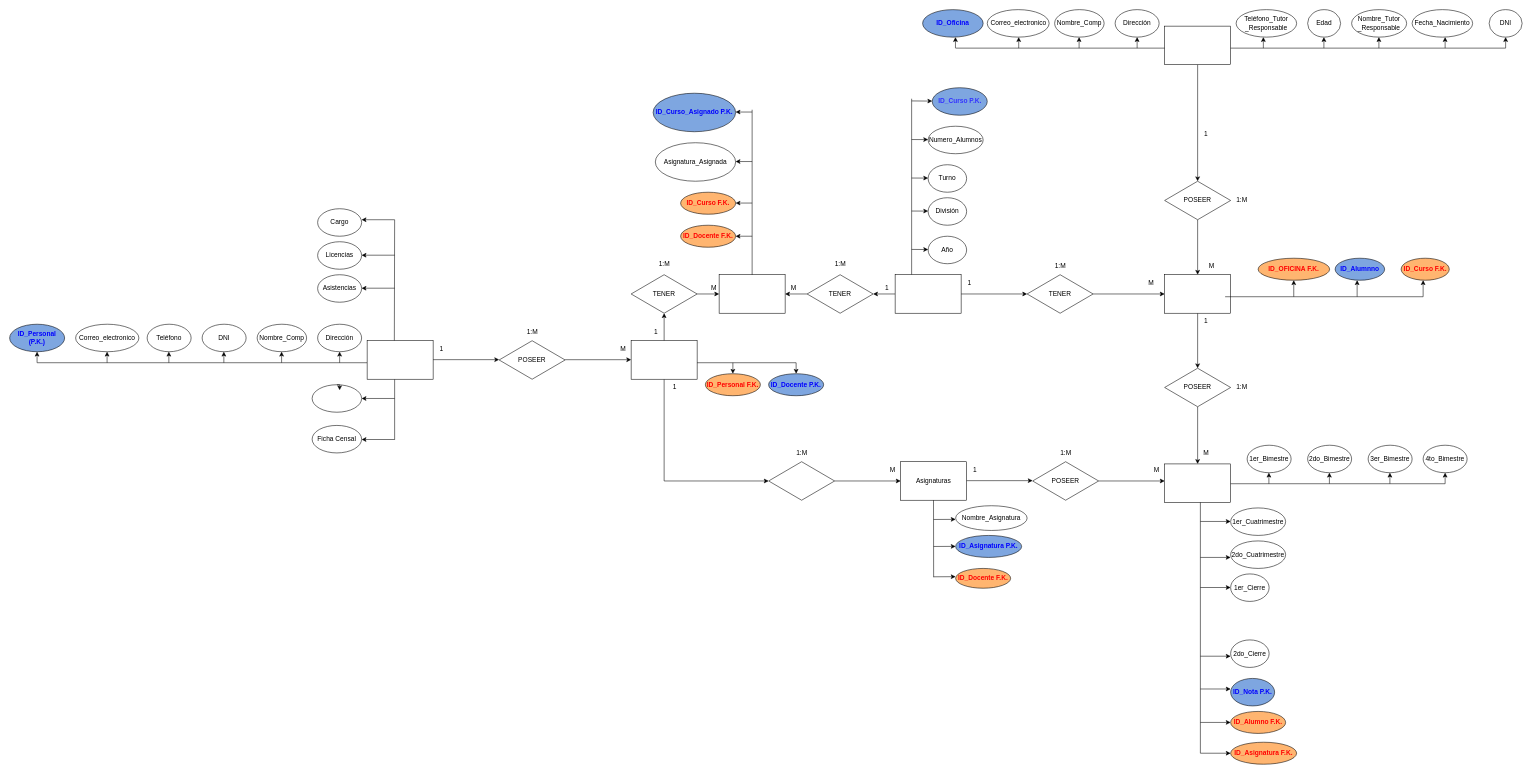
Some shapes in this 1532 by 774 pixel diagram are drawn without their labels. The shapes that lost their labels are listed below. From the top down, each one's centre as x and y in pixels, then its label:
At pixel 1197 45: "OFICINA DE ALUMNOS".
At pixel 752 293: "CURSO_ASIGNADO".
At pixel 928 293: "CURSOS".
At pixel 1197 293: "ALUMNOS".
At pixel 400 359: "SECRETARIA".
At pixel 664 359: "DOCENTES".
At pixel 337 398: "Fecha Inicio".
At pixel 801 480: "DAR".
At pixel 1197 482: "NOTAS".
